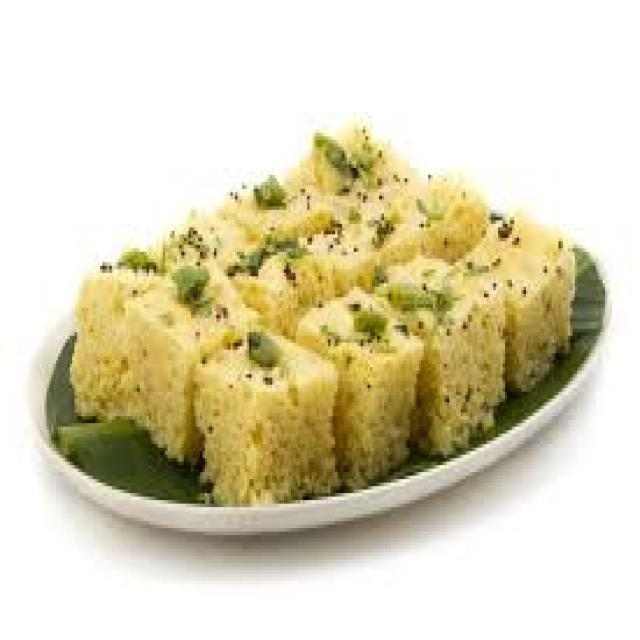DHOKLA: (54, 126, 582, 500), (77, 280, 140, 413)
